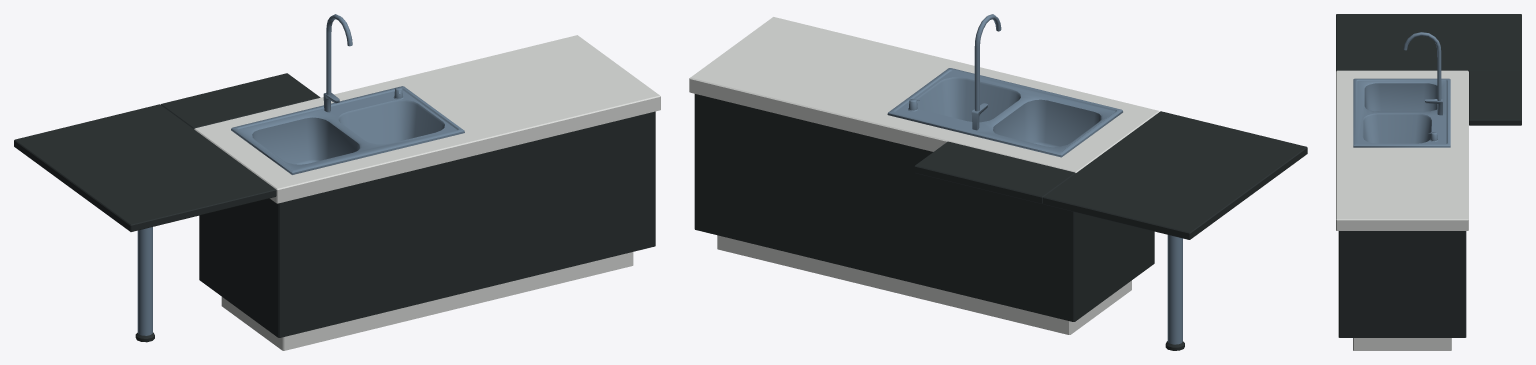
Rendered from HAIERZTKG0401.FBX.
The picture shows the model from 3 angles, left to right: view 1: azimuth 30°, elevation 25°; view 2: azimuth 150°, elevation 25°; view 3: azimuth 270°, elevation 25°; orthographic projection. The views are drawn at different scales.
Parts seen in each view (by area): view 1: HAIERZTKG0401; view 2: HAIERZTKG0401; view 3: HAIERZTKG0401.
Boxes of the visible parts, x1,y1,x2,y2 form: HAIERZTKG0401: (14,14,660,350); HAIERZTKG0401: (689,14,1307,350); HAIERZTKG0401: (1336,14,1521,350).
Size of the model in its own units: 5588 by 2806 by 2134.
